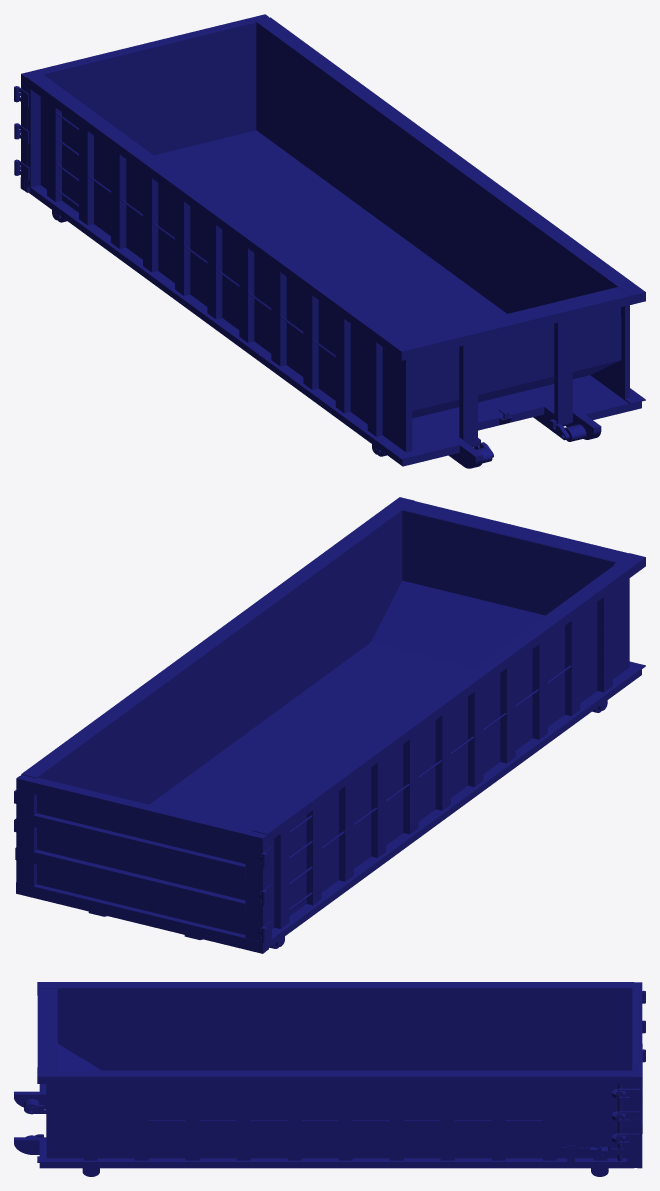
File: 20YardRecDumpsterBlue.obj
3 views of the same model, one above another, from view 1: azimuth 30°, elevation 25°; view 2: azimuth 150°, elevation 25°; view 3: azimuth 270°, elevation 25° (orthographic). The views are drawn at different scales.
Parts seen in each view (by area): view 1: Object.2; view 2: Object.2; view 3: Object.2.
Part boxes in pixels (left/top/right/bottom): Object.2: left=14, top=14, right=645, bottom=468; Object.2: left=14, top=497, right=645, bottom=953; Object.2: left=14, top=982, right=645, bottom=1176.
Size of the model in its own units: 42.63 by 20.77 by 114.
